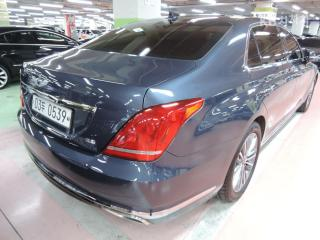0: (47, 102, 52, 117), (34, 97, 39, 109)
3: (56, 106, 62, 122), (38, 99, 42, 111)
5: (52, 106, 57, 118)
9: (62, 109, 68, 123)
두: (41, 101, 46, 112)
